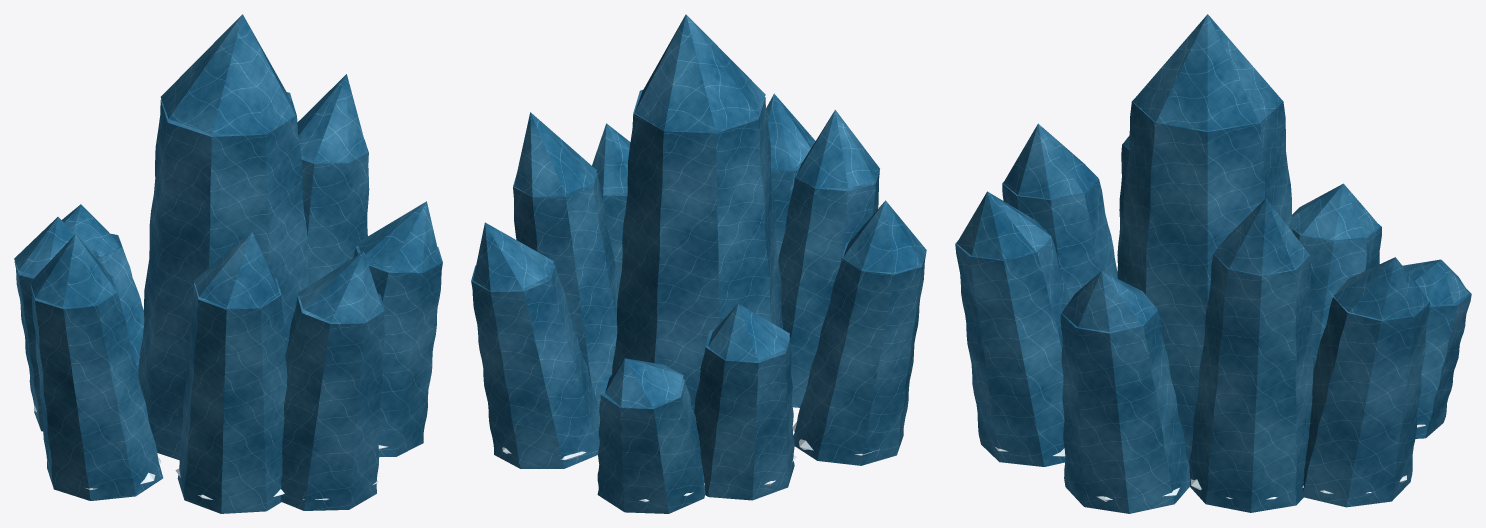
The model's file is BossRoom_CrystalCluster.fbx.
3 renders of one model, left to right at view 1: azimuth 30°, elevation 25°; view 2: azimuth 150°, elevation 25°; view 3: azimuth 270°, elevation 25°, orthographic. The views are drawn at different scales.
Parts seen in each view (by area): view 1: WO_BossRoom_CrystalCluster_LOD0; view 2: WO_BossRoom_CrystalCluster_LOD0; view 3: WO_BossRoom_CrystalCluster_LOD0.
Part boxes in pixels (left/top/right/bottom): WO_BossRoom_CrystalCluster_LOD0: left=14, top=14, right=442, bottom=513; WO_BossRoom_CrystalCluster_LOD0: left=471, top=14, right=926, bottom=513; WO_BossRoom_CrystalCluster_LOD0: left=955, top=14, right=1471, bottom=513.
Size of what is drawn, in the model's own units: 5.21 by 5.57 by 6.
